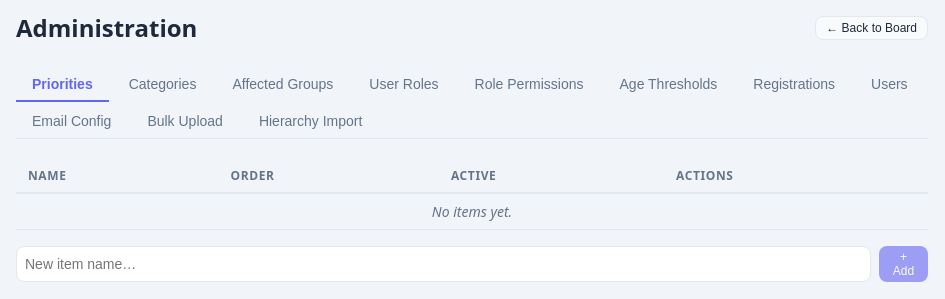
Test: AdminPanel › switches to Role Permissions tab
The width and height of the screenshot is (945, 299).
Step 1. Click the button "Role Permissions" → click(529, 85), box x1=459 y1=68 x2=600 y2=102
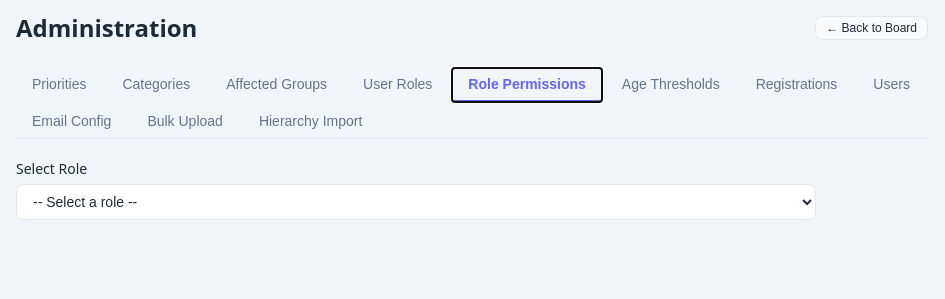
Expected: the text "Select Role" is shown, x1=16 y1=159 x2=87 y2=178
